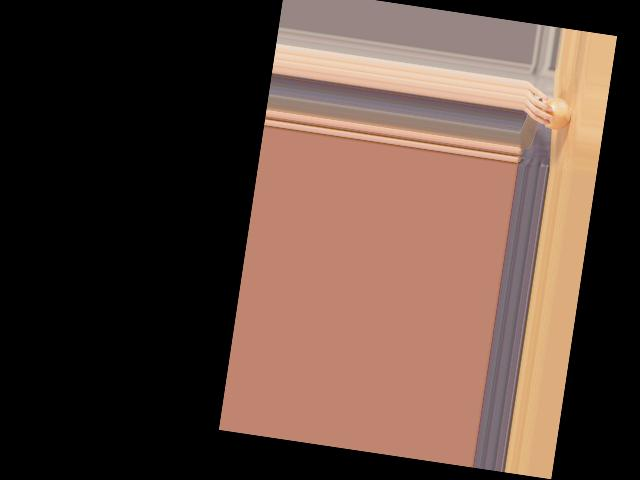onion: (538, 96, 573, 131)
